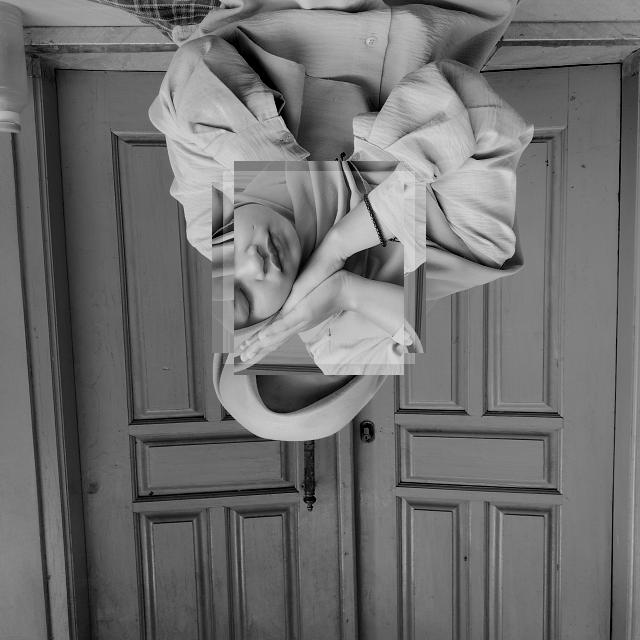tidur: (223, 171, 415, 364)
